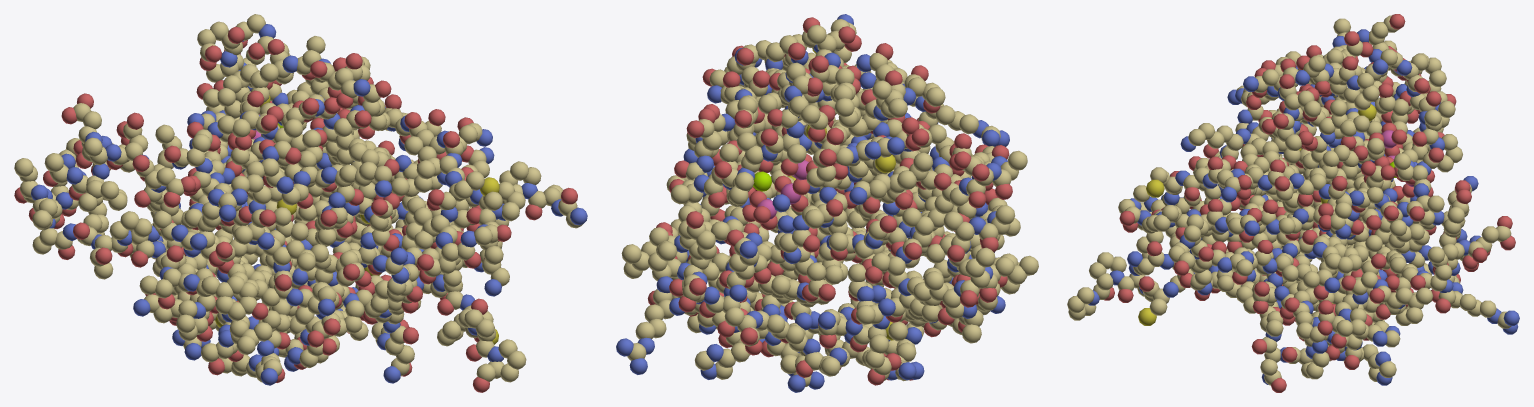
File: 1MH1_chains.fbx
3 renders of one model, left to right at view 1: azimuth 30°, elevation 25°; view 2: azimuth 150°, elevation 25°; view 3: azimuth 270°, elevation 25°, orthographic. The views are drawn at different scales.
Parts seen in each view (by area): view 1: 1MH1_chainA; view 2: 1MH1_chainA; view 3: 1MH1_chainA.
Part boxes in pixels (<box>): 1MH1_chainA: <box>14,14,587,392</box>; 1MH1_chainA: <box>616,14,1038,392</box>; 1MH1_chainA: <box>1067,14,1519,392</box>.
Size of the model in its own units: 51.4 by 38.73 by 51.63.
